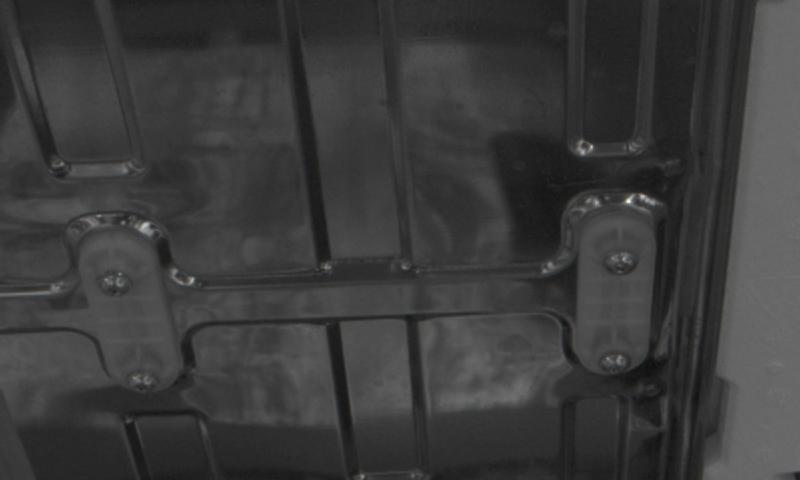vida-ok: (597, 237, 640, 282), (96, 261, 136, 306), (119, 362, 162, 402), (597, 346, 637, 384)
